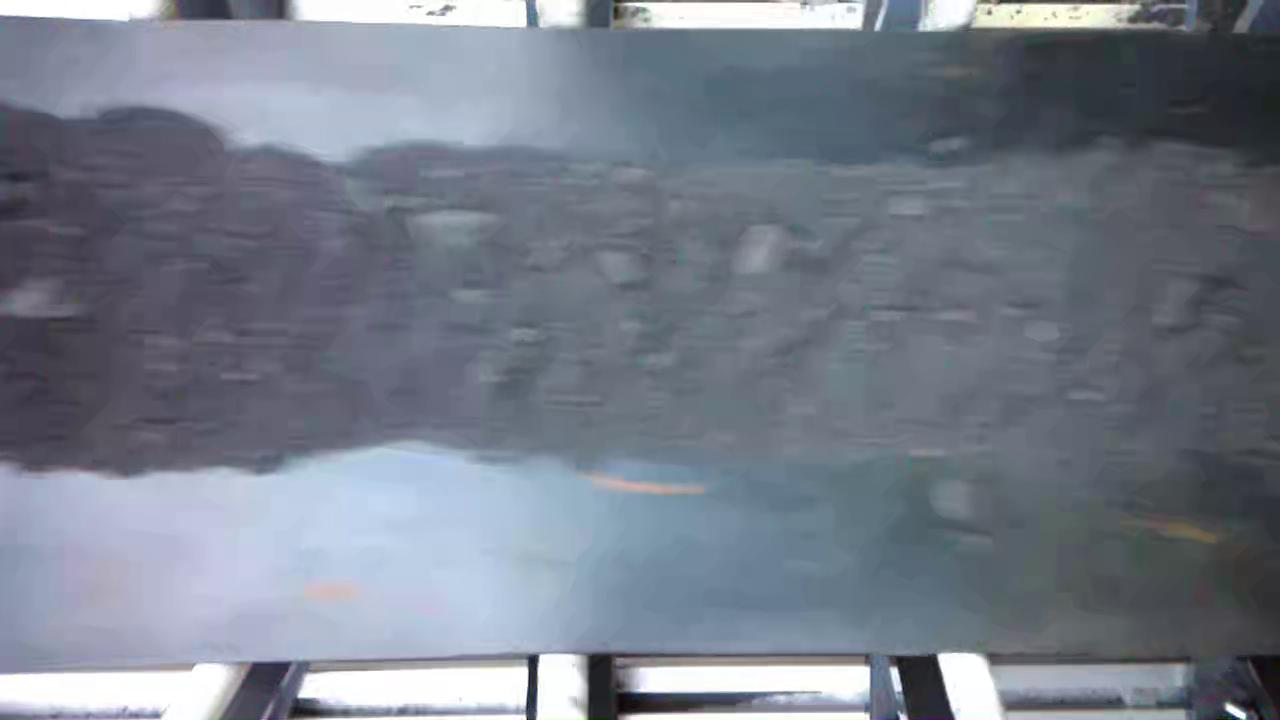conveyor: (5, 35, 1280, 652)
